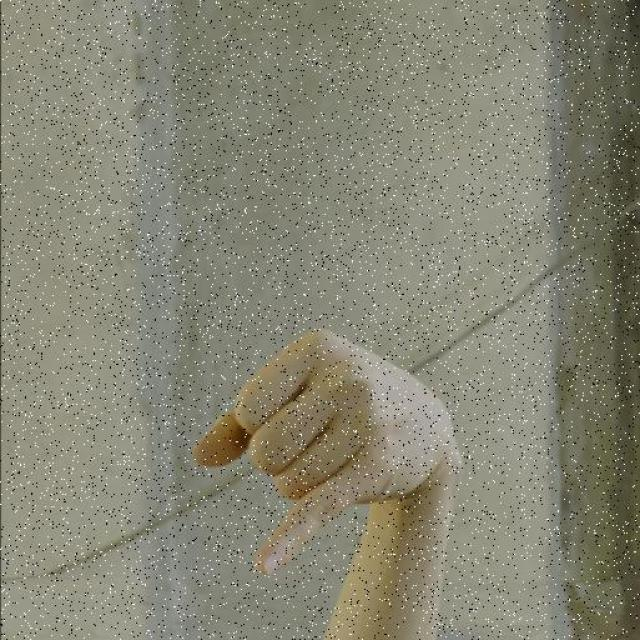J: (155, 305, 501, 613)
